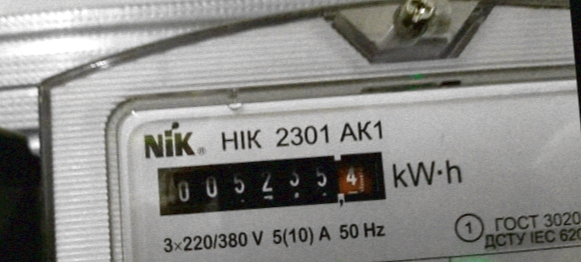0: (174, 177, 192, 205), (203, 173, 219, 199)
2: (257, 167, 274, 193)
3: (285, 162, 301, 189)
4: (342, 161, 359, 188)
5: (229, 169, 247, 197), (312, 161, 329, 189)
screen: (145, 138, 398, 229)
